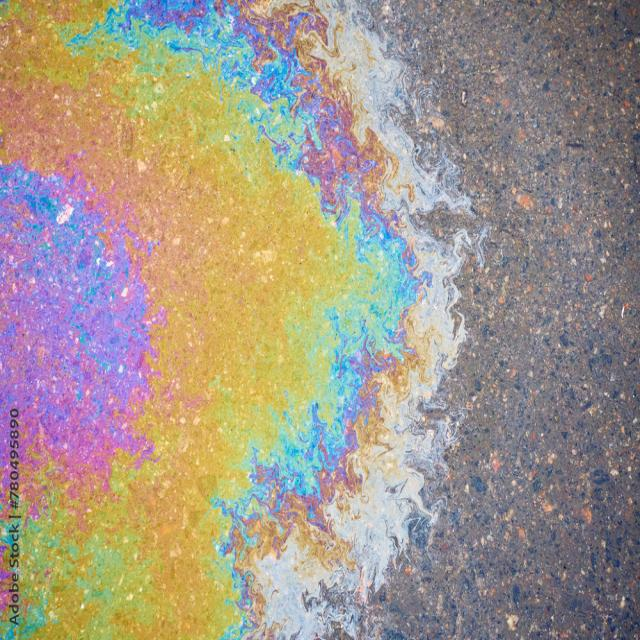corrosion: (48, 141, 490, 583)
